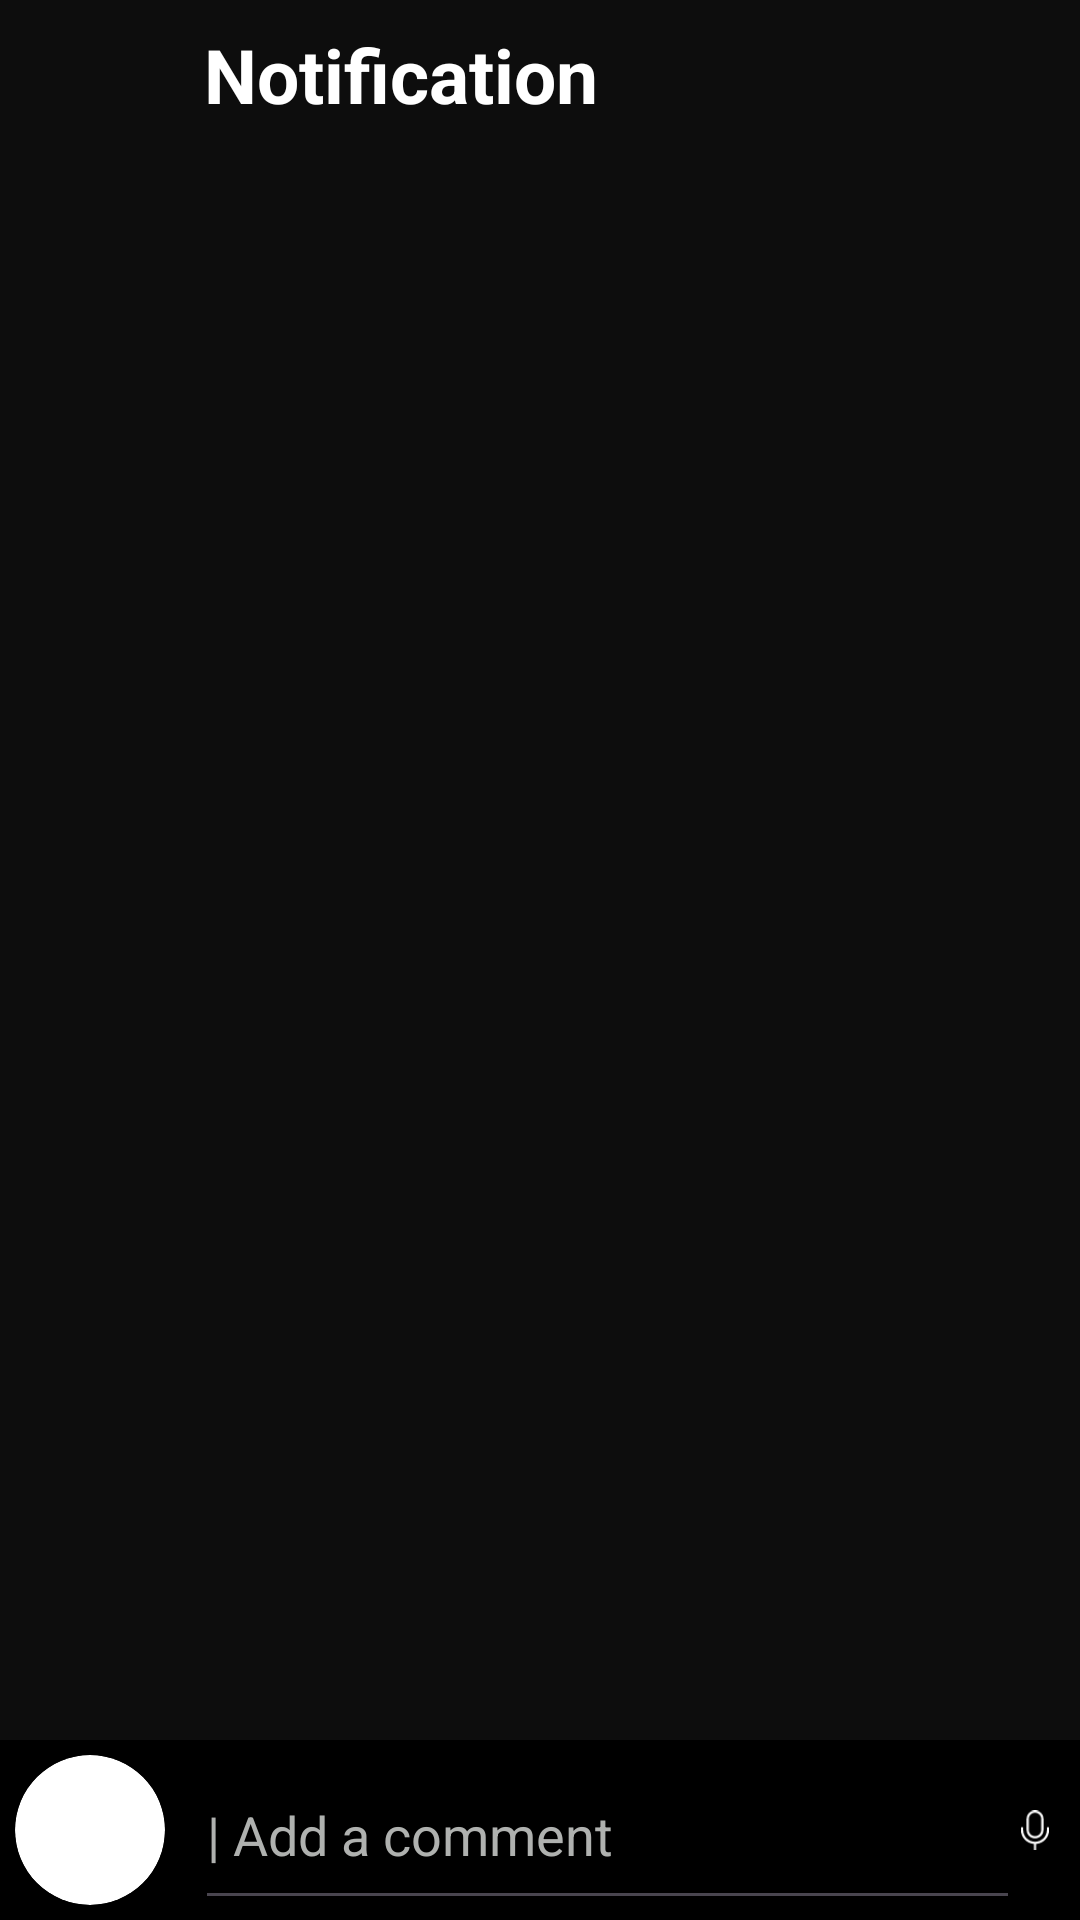

Named icons in this screenshot (1080 x 1920) and their centers, (x,y):
mike: (1035,1830)
